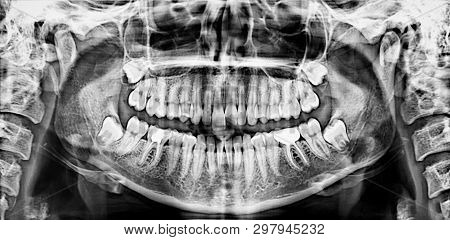canine: (244, 70, 260, 126), (190, 130, 206, 185), (242, 127, 254, 194), (188, 70, 201, 124)
incisor: (222, 75, 240, 125), (231, 131, 245, 192), (212, 73, 226, 132), (200, 68, 213, 128), (213, 134, 228, 184), (222, 133, 235, 181), (205, 132, 216, 187), (236, 66, 245, 125)
molar: (272, 124, 314, 174), (137, 117, 173, 173), (296, 117, 336, 165), (119, 111, 151, 159), (322, 113, 353, 160), (275, 71, 301, 121), (90, 114, 124, 151), (295, 69, 319, 113), (147, 65, 166, 120), (121, 47, 148, 85), (298, 56, 326, 85), (129, 73, 149, 113)
premolar: (167, 124, 190, 180), (250, 129, 270, 186), (180, 128, 199, 180), (263, 127, 281, 177), (256, 69, 270, 128), (179, 71, 194, 124), (167, 73, 181, 122), (268, 67, 279, 126)
